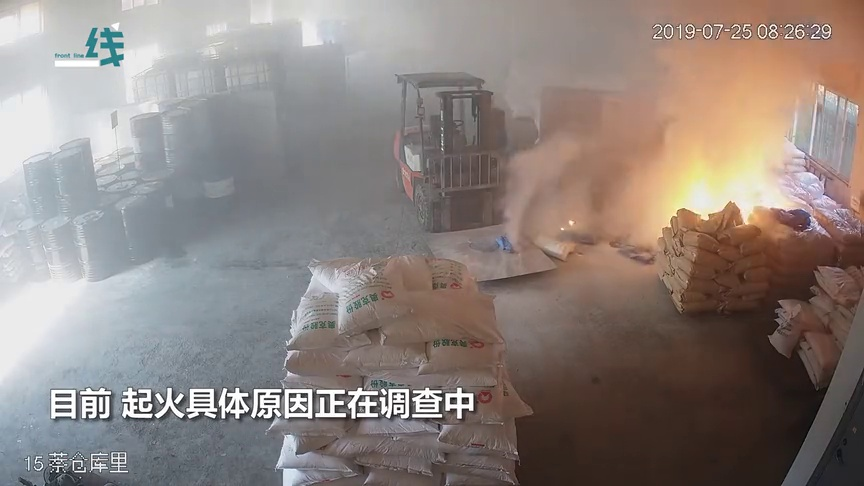fire: (681, 151, 758, 210)
smoke: (649, 19, 778, 142), (509, 134, 590, 227)
